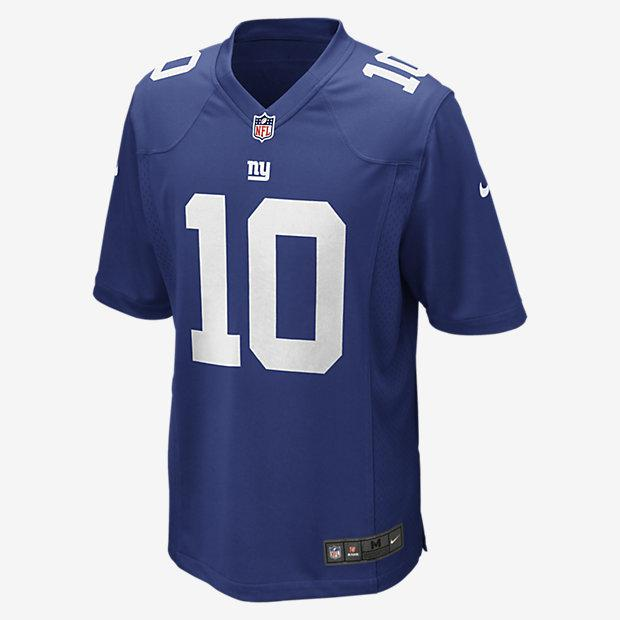teeshirt: (66, 13, 536, 579)
